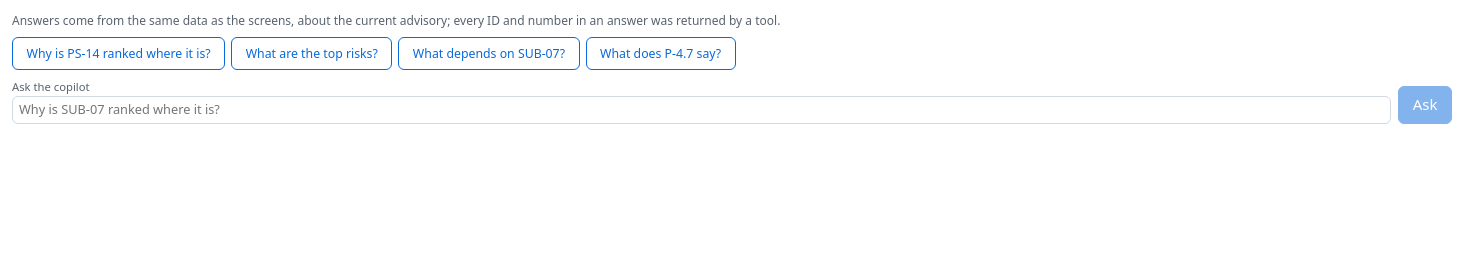
Test: a suggested question gets an answer with clickable citations
Click the button "Why is PS-14 ranked where it is?".
click(119, 54)  # box [12, 37, 225, 70]
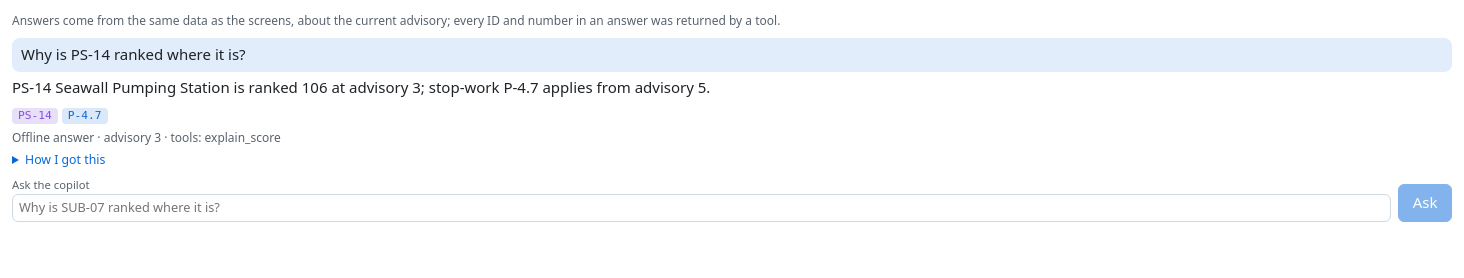
Check: the text "ranked 106 at advisory 3" is shown, box [12, 77, 710, 97]
Check: the text "Offline answer · advisory 3 · tools: explain_score" is shown, box [12, 129, 281, 146]
Click the button "PS-14".
click(35, 116)  # box [12, 108, 58, 124]
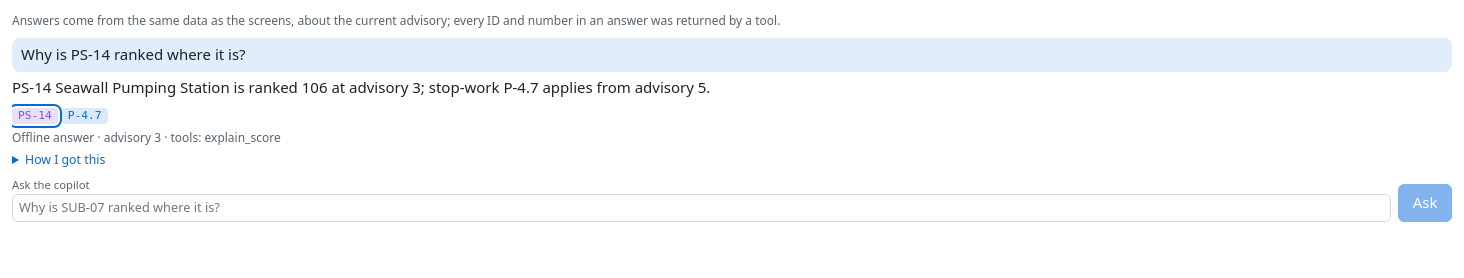
Click the button "P-4.7".
click(85, 116)  # box [62, 108, 108, 124]
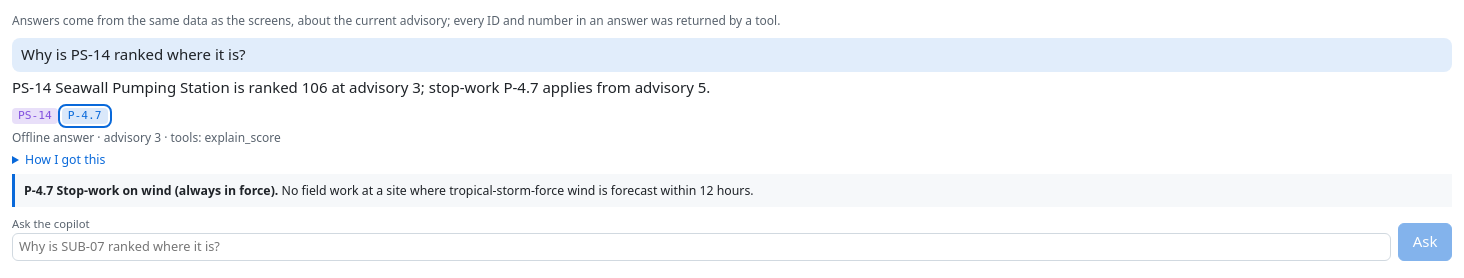
Check: the element named "Clause P-4.7" shows "No field work", box [282, 182, 754, 199]
